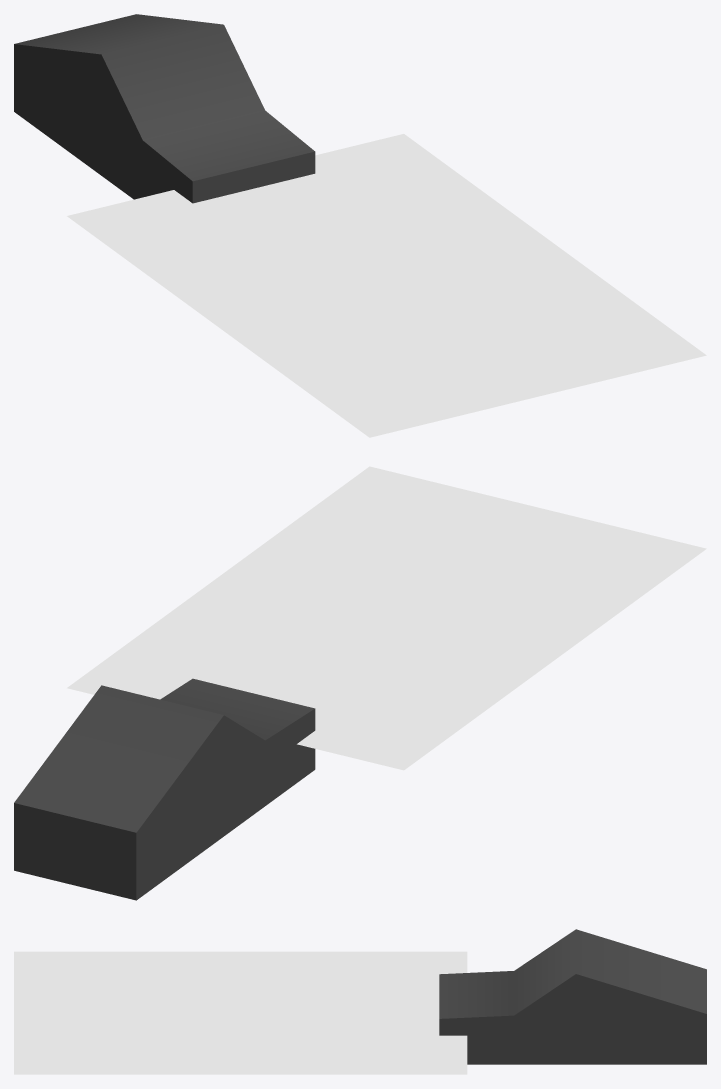
The model's file is FX_Car_Mesh_01.fbx.
3 views of the same model, one above another, from view 1: azimuth 30°, elevation 25°; view 2: azimuth 150°, elevation 25°; view 3: azimuth 270°, elevation 25° (orthographic). The views are drawn at different scales.
Parts seen in each view (by area): view 1: FX_Car_Mesh_01; view 2: FX_Car_Mesh_01; view 3: FX_Car_Mesh_01.
Boxes of the visible parts, x1=… form: FX_Car_Mesh_01: x1=14, y1=14, x2=706, y2=437; FX_Car_Mesh_01: x1=14, y1=466, x2=706, y2=900; FX_Car_Mesh_01: x1=14, y1=929, x2=706, y2=1074.
Bounding box in the file's own units: 760 × 261 × 1806.
